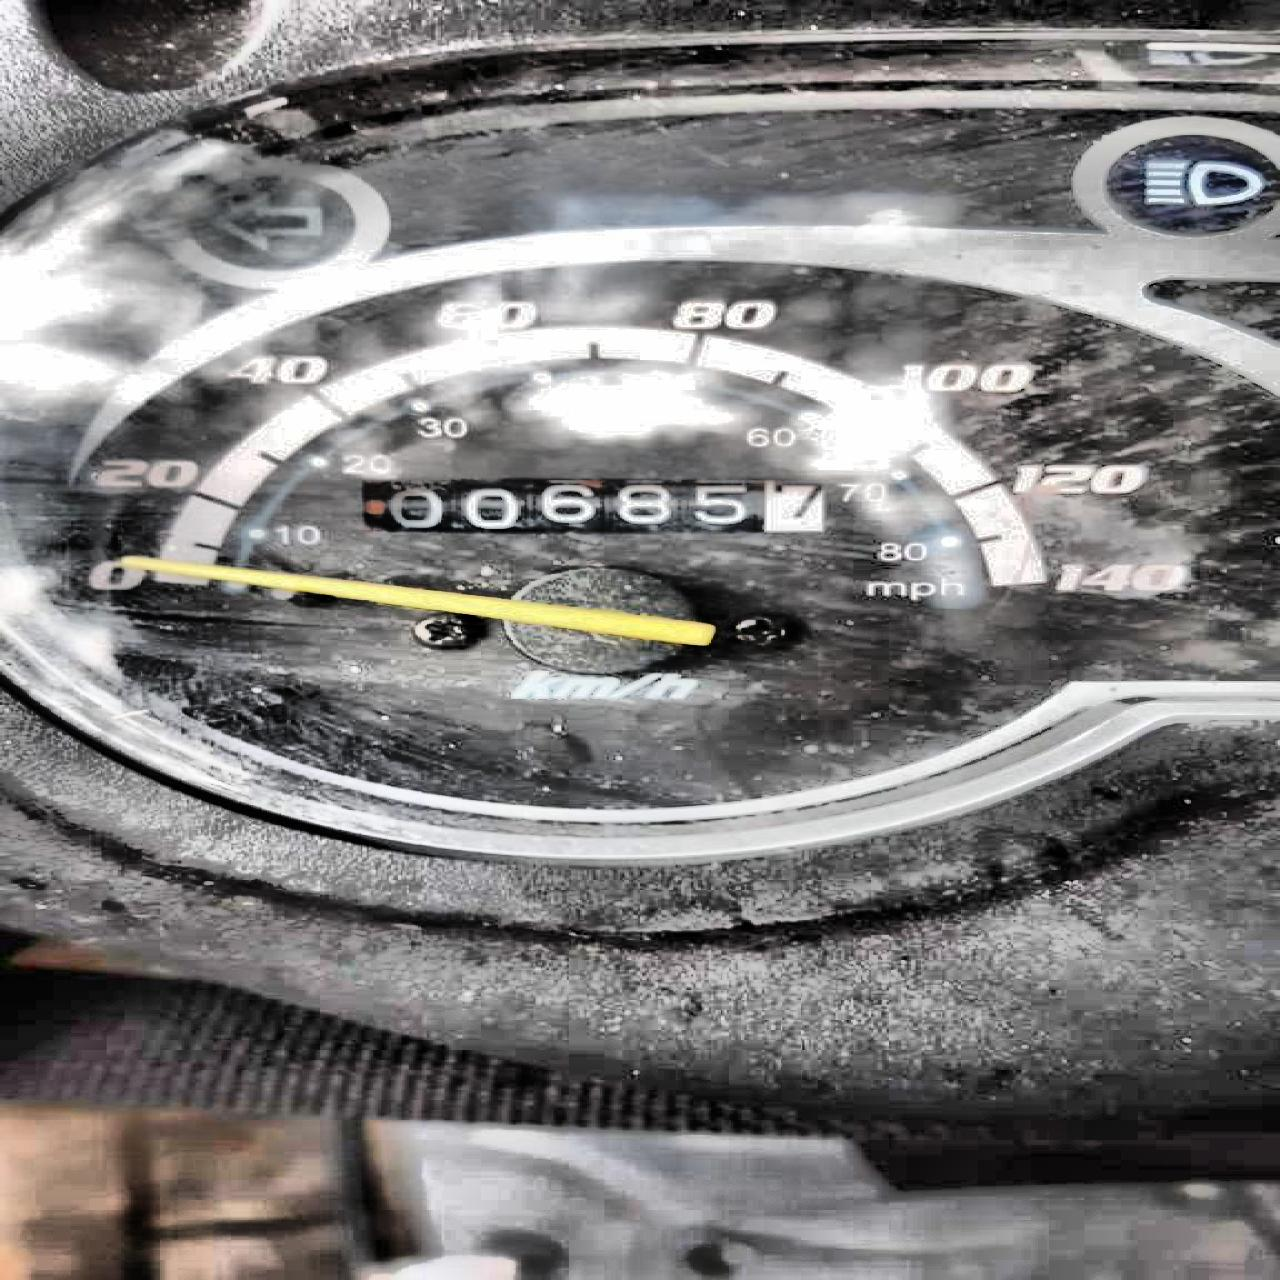0: (456, 485, 524, 531), (384, 484, 447, 531)
5: (687, 483, 754, 527)
6: (536, 483, 598, 525)
7: (764, 478, 826, 522)
8: (615, 483, 678, 525)
odometer: (350, 474, 833, 535)
